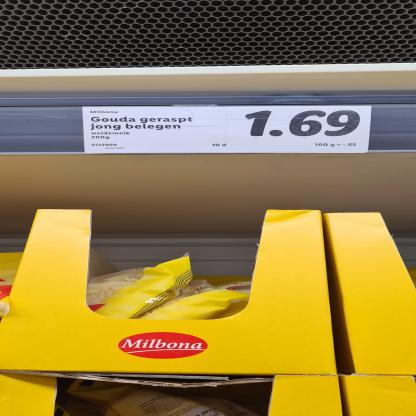prtg: (84, 107, 373, 154)
